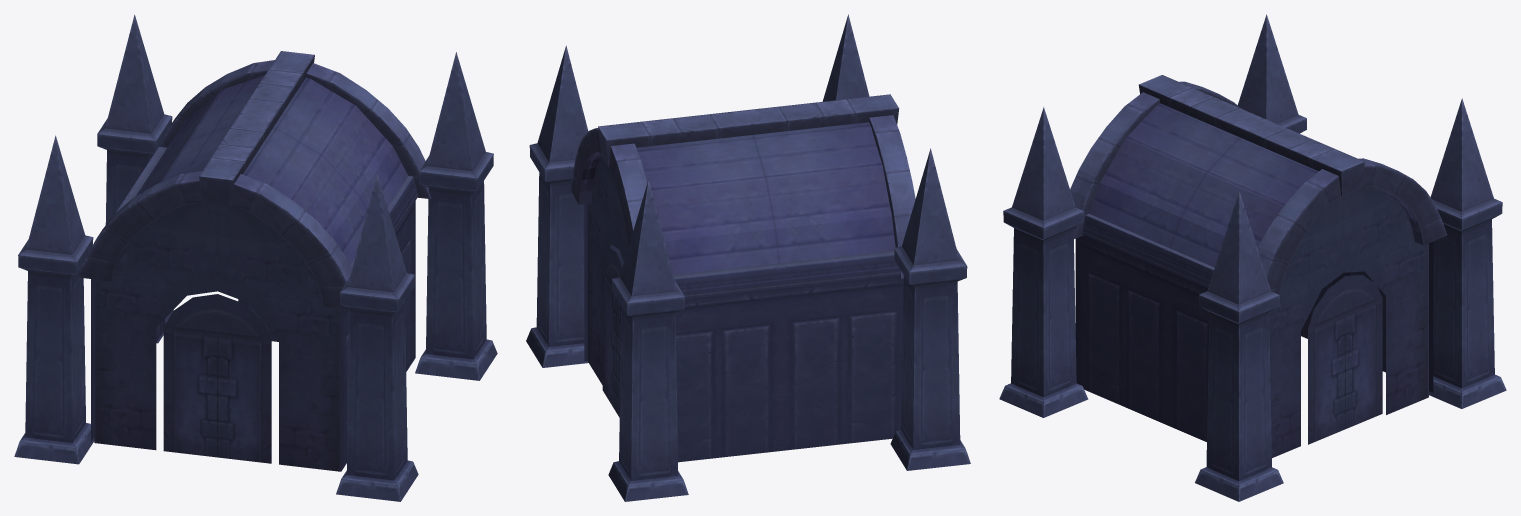
Rendered from Area11_10.fbx.
3 renders of one model, left to right at view 1: azimuth 30°, elevation 25°; view 2: azimuth 150°, elevation 25°; view 3: azimuth 270°, elevation 25°, orthographic. The views are drawn at different scales.
Visible parts, largest first — view 1: Area11_10; view 2: Area11_10; view 3: Area11_10.
Boxes of the visible parts, x1,y1,x2,y2 form: Area11_10: (14, 14, 497, 501); Area11_10: (526, 14, 970, 501); Area11_10: (999, 14, 1506, 501).
Size of the model in its own units: 1302 by 828 by 1303.
